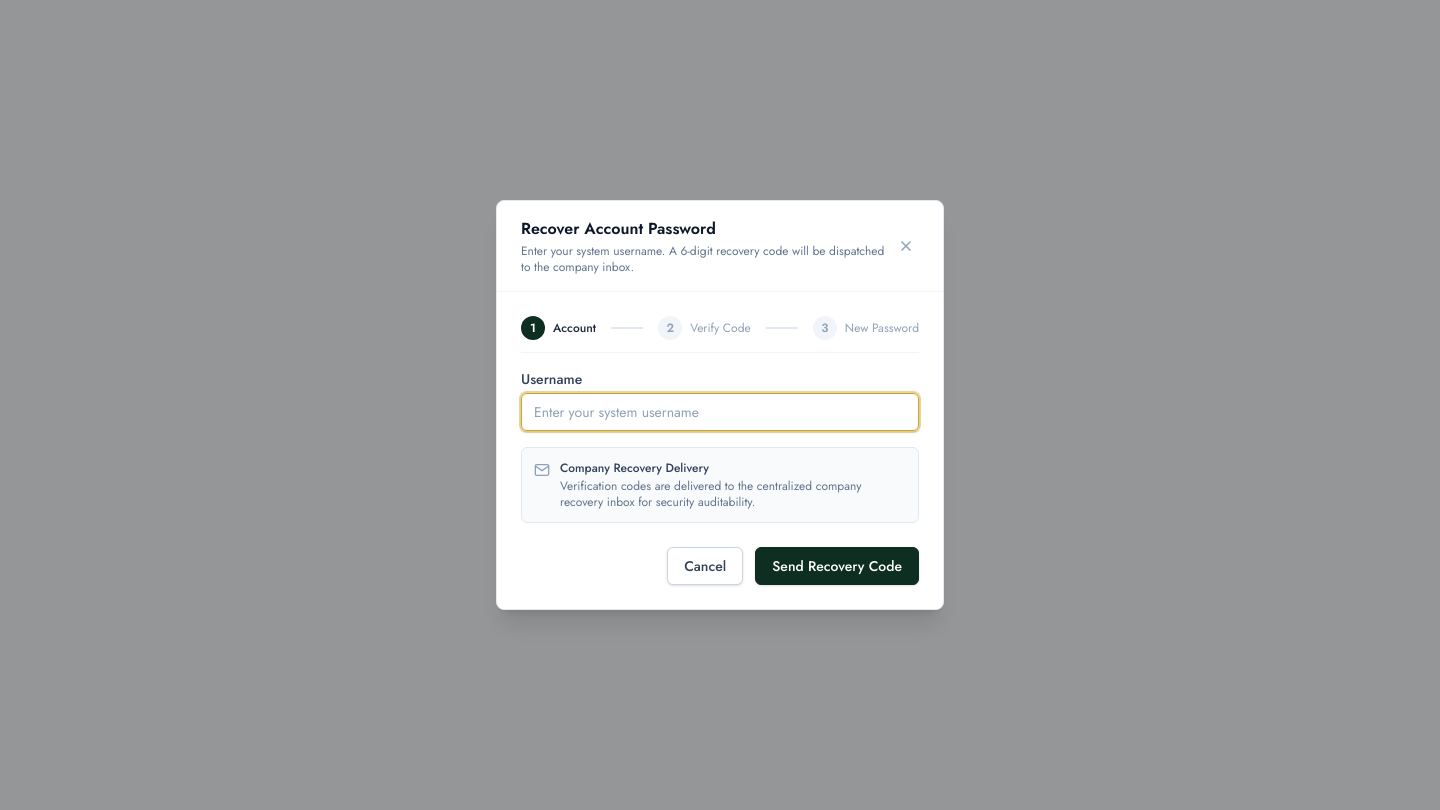
Test: ForgotPasswordModal › validates empty username on Step 1
What coordinates should you click on to do the following:
click the button "Send Recovery Code"
I would click on:
 (837, 566)
Its box is [755, 547, 919, 585].
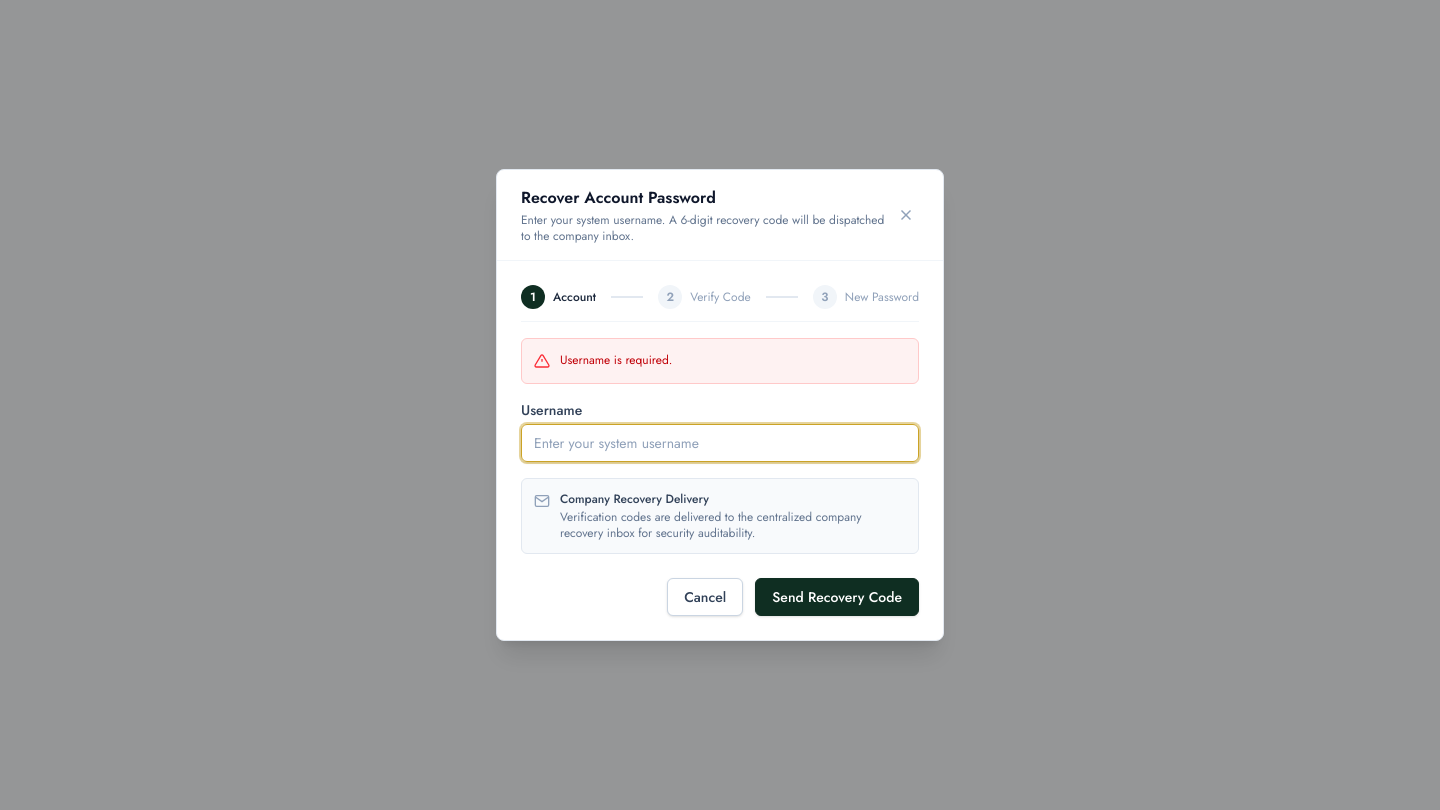
Check: the text "Username is required." is shown, box [560, 351, 672, 369]
